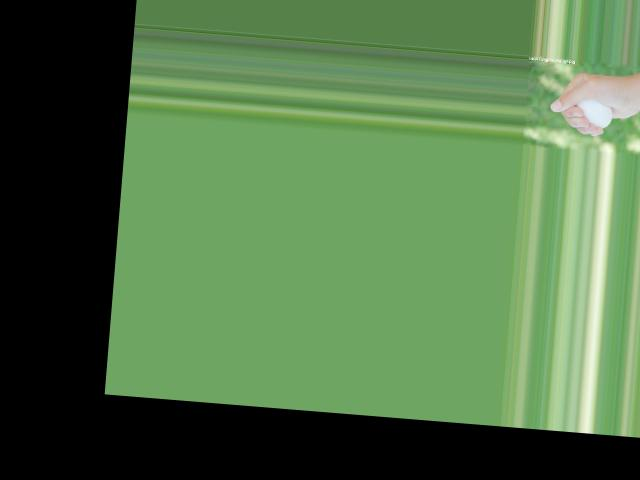egg: (574, 99, 613, 128)
